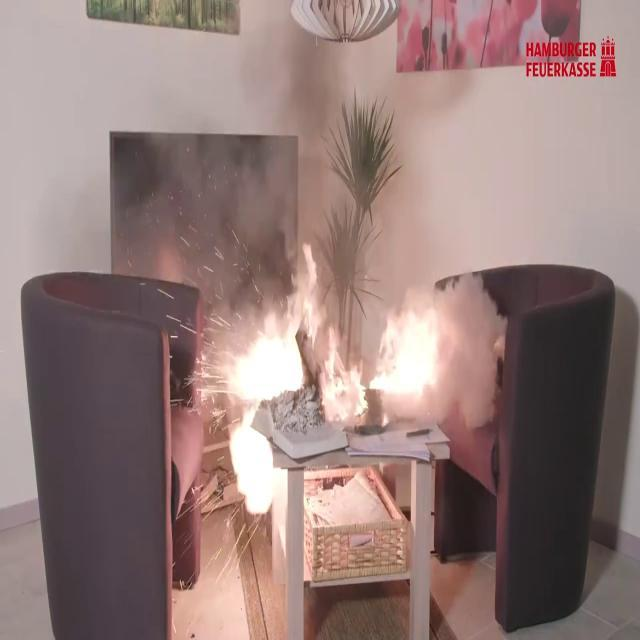Fire: (200, 322, 300, 512), (320, 302, 443, 425)
Smoke: (124, 10, 466, 278)
